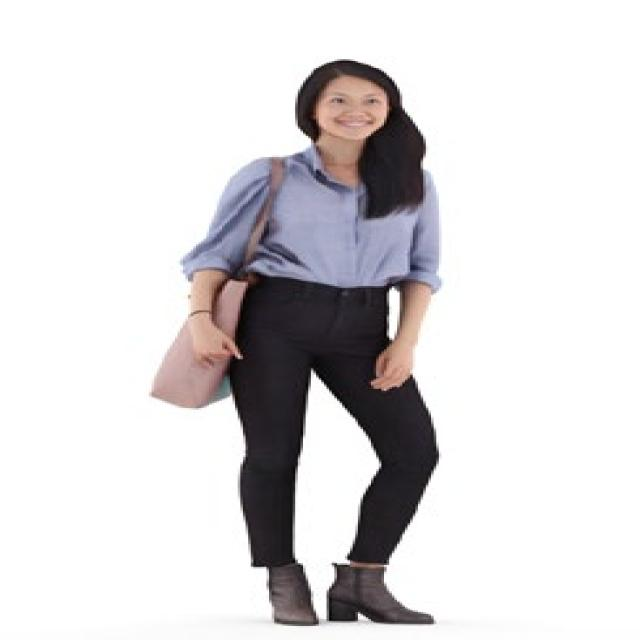standing: (178, 58, 464, 626)
